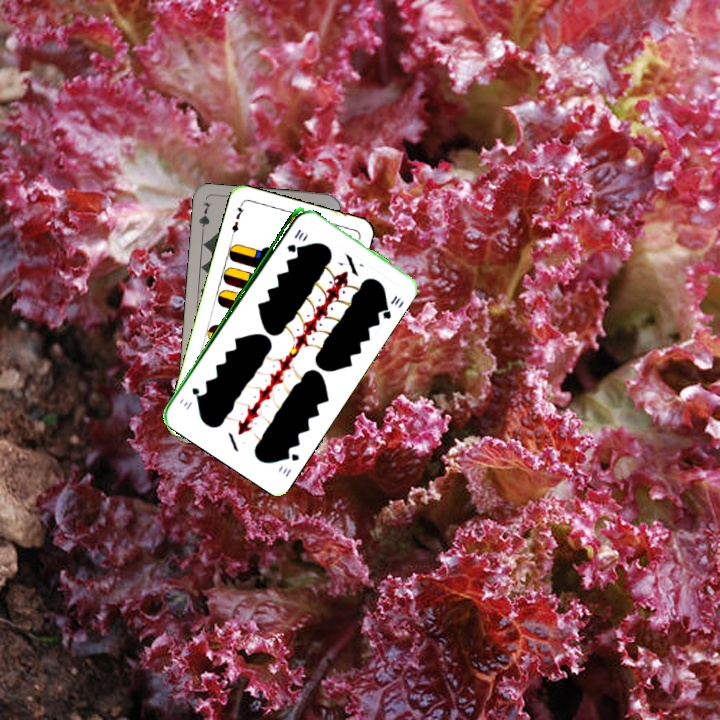E7: (227, 199, 247, 239)
G10: (279, 447, 302, 480), (283, 225, 306, 254)
G7: (195, 198, 213, 239)
